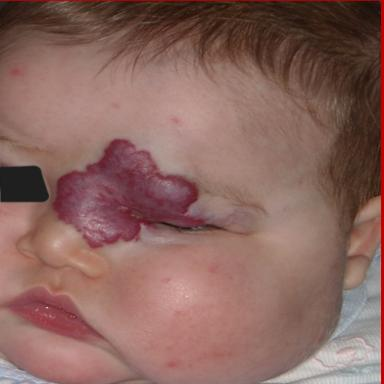Hemangiome: (54, 139, 204, 247)
